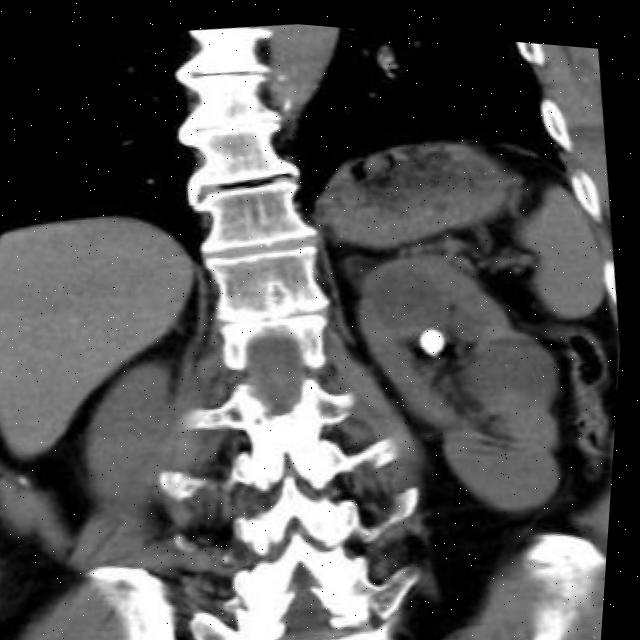Tas_Var: (418, 312, 456, 359)
